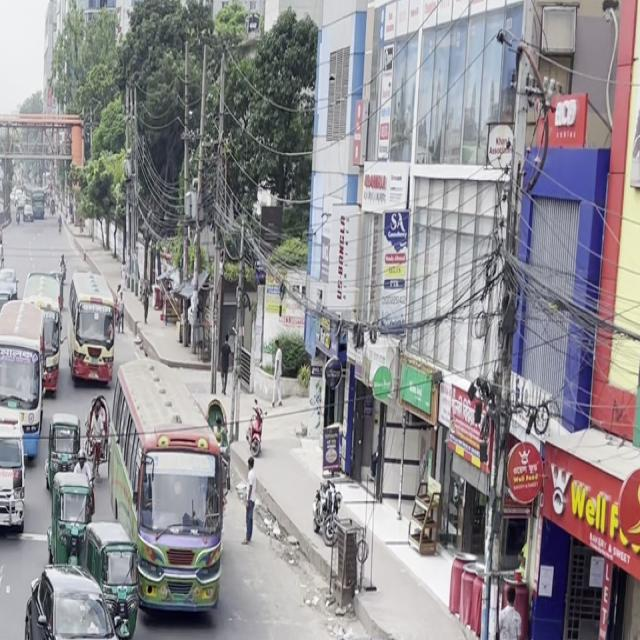bus: (121, 349, 224, 633), (68, 261, 119, 396), (0, 294, 58, 404)
car: (19, 555, 135, 640), (0, 426, 29, 545), (307, 622, 478, 640)
rickshaw: (69, 515, 141, 640), (45, 462, 99, 562)
